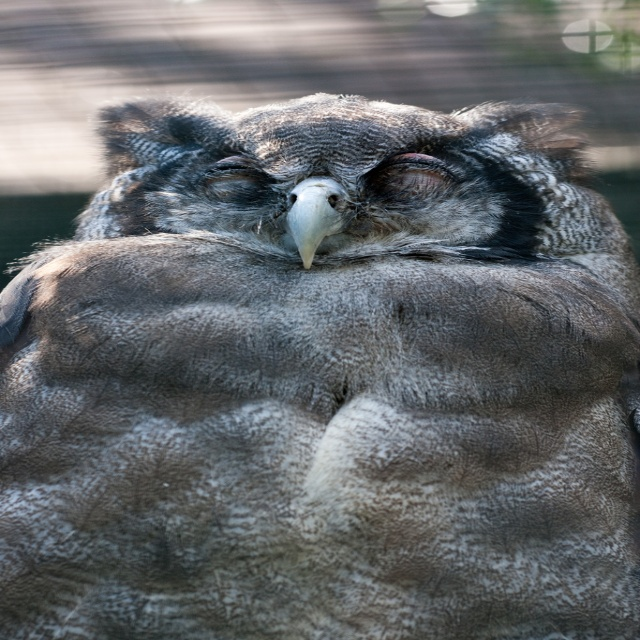Owl: (0, 96, 639, 640)
